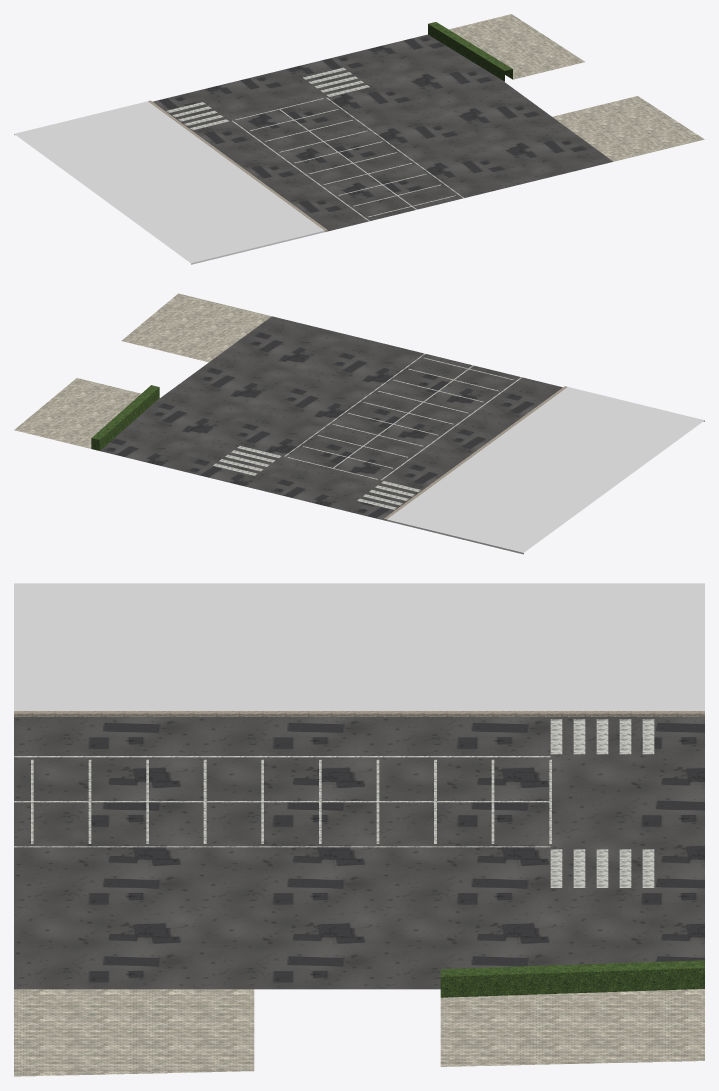
Rendered from SM_Mirabello_Suolo.fbx.
3 views of the same model, one above another, from view 1: azimuth 30°, elevation 25°; view 2: azimuth 150°, elevation 25°; view 3: azimuth 270°, elevation 25° (orthographic). The views are drawn at different scales.
Visible parts, largest first — view 1: SM_Mirabello_Suolo; view 2: SM_Mirabello_Suolo; view 3: SM_Mirabello_Suolo.
Part boxes in pixels (left/top/right/bottom): SM_Mirabello_Suolo: left=14, top=14, right=704, bottom=264; SM_Mirabello_Suolo: left=14, top=293, right=704, bottom=554; SM_Mirabello_Suolo: left=14, top=583, right=704, bottom=1076.
Size of what is drawn, in the model's own units: 5036 by 3000 by 100.
Materials: 6 (5 with a texture image).
